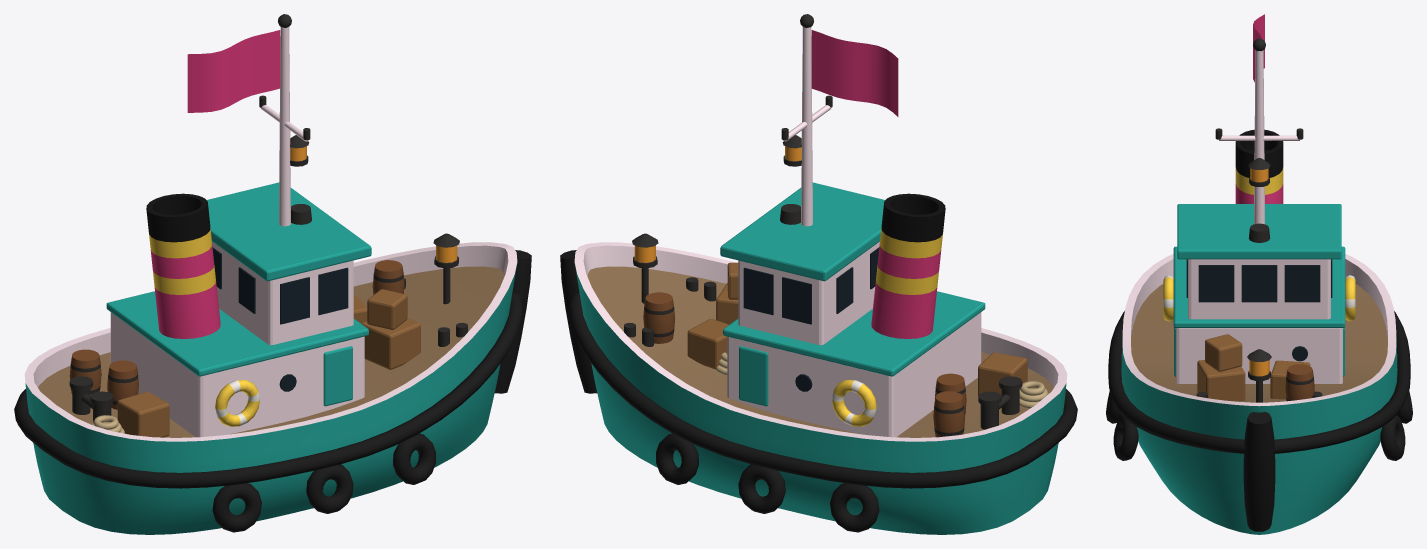
Rendered from semi-realista-fiesta.glb.
3 renders of one model, left to right at view 1: azimuth 30°, elevation 25°; view 2: azimuth 150°, elevation 25°; view 3: azimuth 270°, elevation 25°, orthographic. The views are drawn at different scales.
Parts seen in each view (by area): view 1: hull, house, house_trim, fenders, funnel, flag, windows, mast, crate_0, crate_3, bitts, lanterns (+6 smaller); view 2: hull, house, house_trim, fenders, funnel, flag, windows, mast, bitts, crate_1, lanterns, crate_3 (+7 smaller); view 3: hull, house_trim, fenders, house, windows, funnel, mast, crate_0, lanterns, crate_2, barrel_2, life_rings (+3 smaller).
Part boxes in pixels (left/top/right/bottom): hull: left=24, top=242, right=517, bottom=534; house: left=110, top=241, right=364, bottom=437; house_trim: left=106, top=182, right=371, bottom=406; fenders: left=14, top=250, right=531, bottom=532; funnel: left=146, top=193, right=220, bottom=338; flag: left=187, top=30, right=280, bottom=112; windows: left=212, top=247, right=348, bottom=391; mast: left=260, top=27, right=308, bottom=226; crate_0: left=361, top=318, right=420, bottom=369; crate_3: left=117, top=391, right=169, bottom=437; bitts: left=69, top=278, right=467, bottom=422; lanterns: left=290, top=135, right=459, bottom=304; hull: left=574, top=242, right=1067, bottom=534; house: left=727, top=241, right=981, bottom=437; house_trim: left=720, top=182, right=985, bottom=406; fenders: left=560, top=250, right=1077, bottom=532; funnel: left=871, top=193, right=945, bottom=338; flag: left=811, top=30, right=898, bottom=116; windows: left=743, top=247, right=879, bottom=391; mast: left=783, top=27, right=831, bottom=226; bitts: left=624, top=277, right=1022, bottom=429; crate_1: left=687, top=319, right=728, bottom=368; lanterns: left=632, top=135, right=801, bottom=303; crate_3: left=978, top=352, right=1027, bottom=396; hull: left=1121, top=254, right=1397, bottom=534; house_trim: left=1173, top=204, right=1345, bottom=376; fenders: left=1106, top=311, right=1412, bottom=531; house: left=1176, top=259, right=1342, bottom=383; windows: left=1186, top=259, right=1332, bottom=361; funnel: left=1235, top=129, right=1283, bottom=203; mast: left=1219, top=50, right=1299, bottom=224; crate_0: left=1197, top=360, right=1245, bottom=401; lanterns: left=1247, top=158, right=1271, bottom=402; crate_2: left=1205, top=334, right=1242, bottom=371; barrel_2: left=1285, top=364, right=1314, bottom=401; life_rings: left=1163, top=275, right=1355, bottom=321.
Size of the model in its own units: 2.17 by 1.88 by 1.29.
